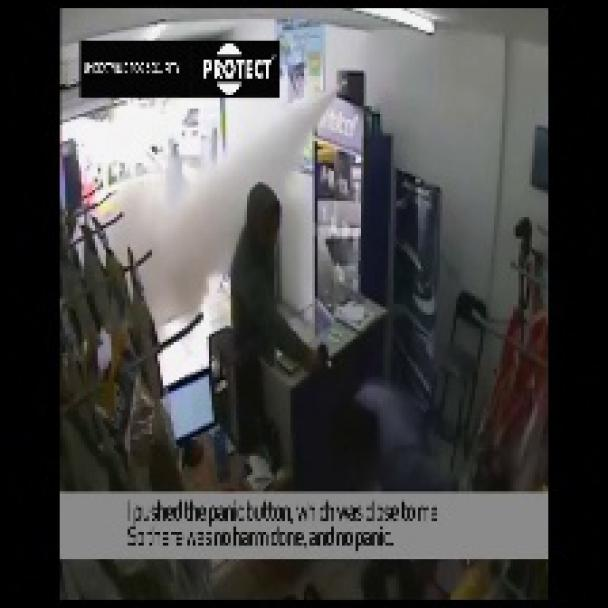smoke: (103, 43, 379, 387)
